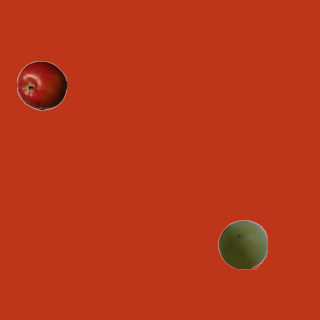Apple Braeburn: (16, 60, 66, 110)
Grape White 4: (217, 219, 267, 269)
